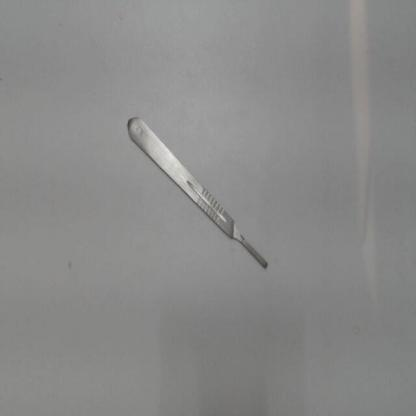No.4 BP Handle: (114, 93, 278, 288)
